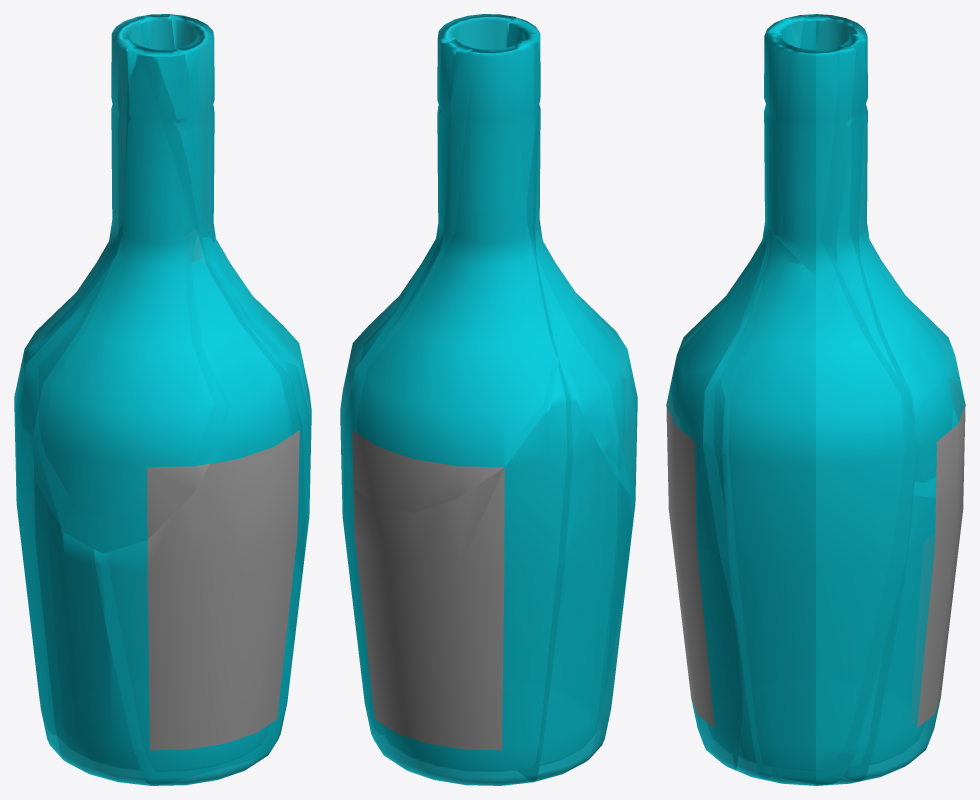
File: Bottle3Shatter.fbx
3 renders of one model, left to right at view 1: azimuth 30°, elevation 25°; view 2: azimuth 150°, elevation 25°; view 3: azimuth 270°, elevation 25°, orthographic.
Visible parts, largest first — view 1: shard19, shard16, shard25, shard13, shard20, shard21, shard15, shard14, shard18, shard24; view 2: shard14, shard20, shard25, shard16, shard18, shard21, shard15, shard19, shard24; view 3: shard15, shard19, shard21, shard14, shard20, shard18, shard13, shard24, shard16, shard23.
Boxes of the visible parts, left/top/right/bottom form: shard19: left=94, top=231, right=305, bottom=785; shard16: left=22, top=54, right=226, bottom=553; shard25: left=15, top=312, right=194, bottom=785; shard13: left=142, top=54, right=309, bottom=567; shard20: left=23, top=15, right=145, bottom=354; shard21: left=170, top=14, right=214, bottom=238; shard15: left=201, top=231, right=311, bottom=634; shard14: left=14, top=332, right=55, bottom=734; shard18: left=140, top=14, right=174, bottom=49; shard24: left=126, top=41, right=187, bottom=197; shard14: left=344, top=354, right=572, bottom=785; shard20: left=345, top=41, right=559, bottom=512; shard25: left=527, top=331, right=635, bottom=781; shard16: left=527, top=30, right=637, bottom=498; shard18: left=343, top=39, right=476, bottom=673; shard21: left=398, top=14, right=520, bottom=308; shard15: left=340, top=257, right=426, bottom=545; shard19: left=605, top=470, right=635, bottom=687; shard24: left=507, top=20, right=539, bottom=130; shard15: left=721, top=228, right=916, bottom=785; shard19: left=666, top=223, right=767, bottom=770; shard21: left=764, top=31, right=871, bottom=335; shard14: left=844, top=419, right=964, bottom=781; shard20: left=800, top=14, right=965, bottom=498; shard18: left=777, top=33, right=916, bottom=785; shard13: left=703, top=18, right=787, bottom=621; shard24: left=769, top=15, right=820, bottom=243; shard16: left=672, top=17, right=789, bottom=410; shard23: left=735, top=688, right=764, bottom=779.
Size of the model in its own units: 3.62 by 9.41 by 3.62.
